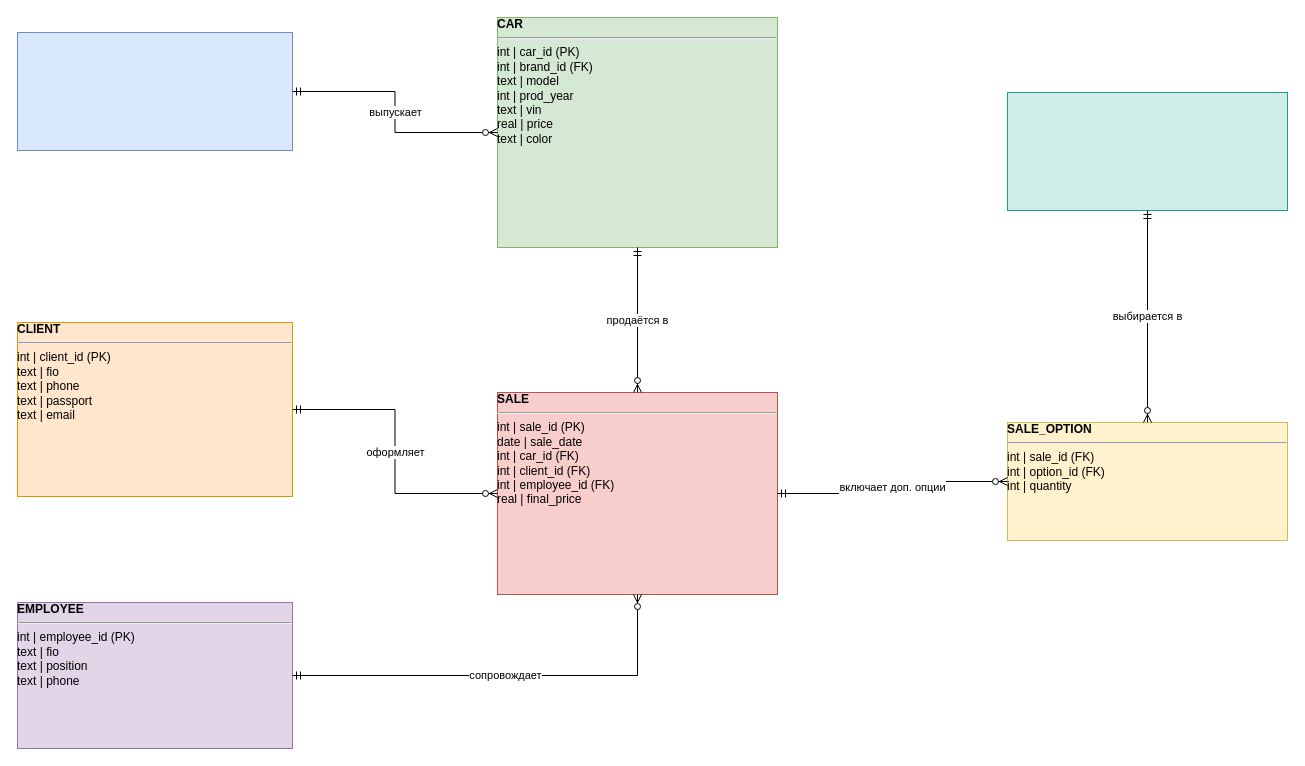
Image size: 1305x766. Some labels were removed from this diagram. Each missing label, with the centre of its shape:
"ADDITIONAL_OPTION int | option_id (PK) text | option_name real | option_price" belongs at [1147,151].
"BRAND int | brand_id (PK) text | brand_name text | country" belongs at [154,91].
